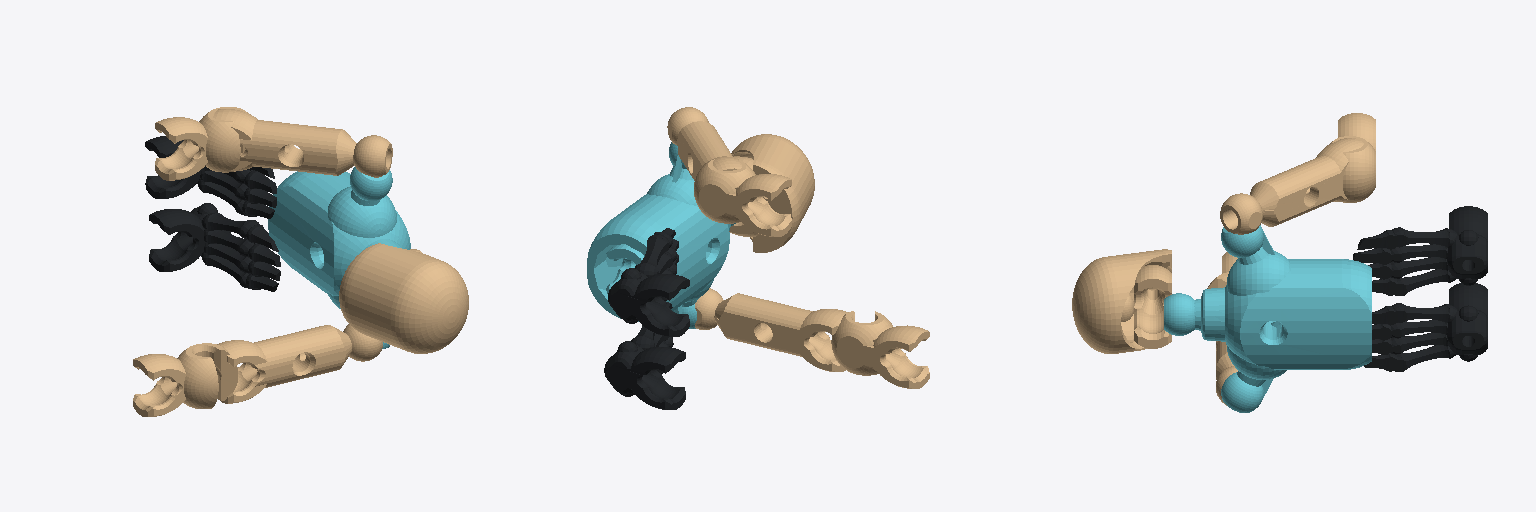
Rendered from tinker.obj.
3 views of the same model, side by side, from view 1: azimuth 30°, elevation 25°; view 2: azimuth 150°, elevation 25°; view 3: azimuth 270°, elevation 25° (orthographic).
Visible parts, largest first — view 1: obj_0; view 2: obj_0; view 3: obj_0.
Boxes of the visible parts, <box> form: obj_0: <box>133,107,468,416</box>; obj_0: <box>587,107,929,409</box>; obj_0: <box>1072,113,1487,412</box>.
Size of the model in its own units: 72.8 by 60.63 by 97.